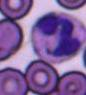N: (30, 11, 84, 63)
